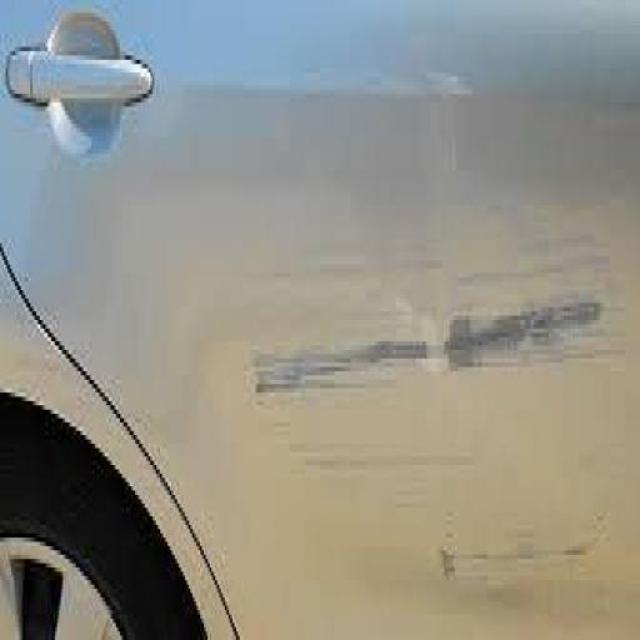scratch: (240, 162, 630, 597)
